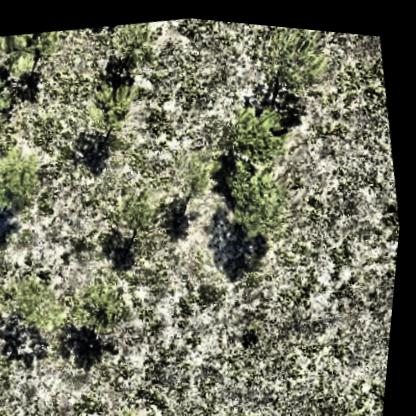tree-top: (215, 149, 300, 241), (226, 93, 298, 160), (74, 273, 144, 341), (0, 140, 59, 214), (11, 274, 74, 337), (86, 72, 149, 131), (118, 182, 170, 234)
